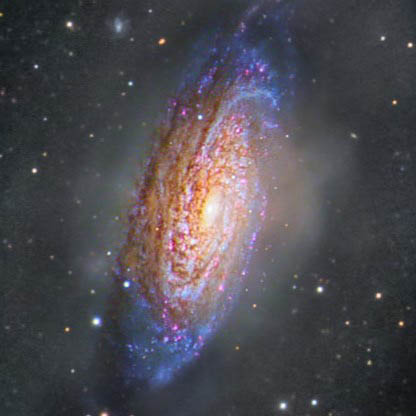NGC 3521: (88, 7, 388, 373)
